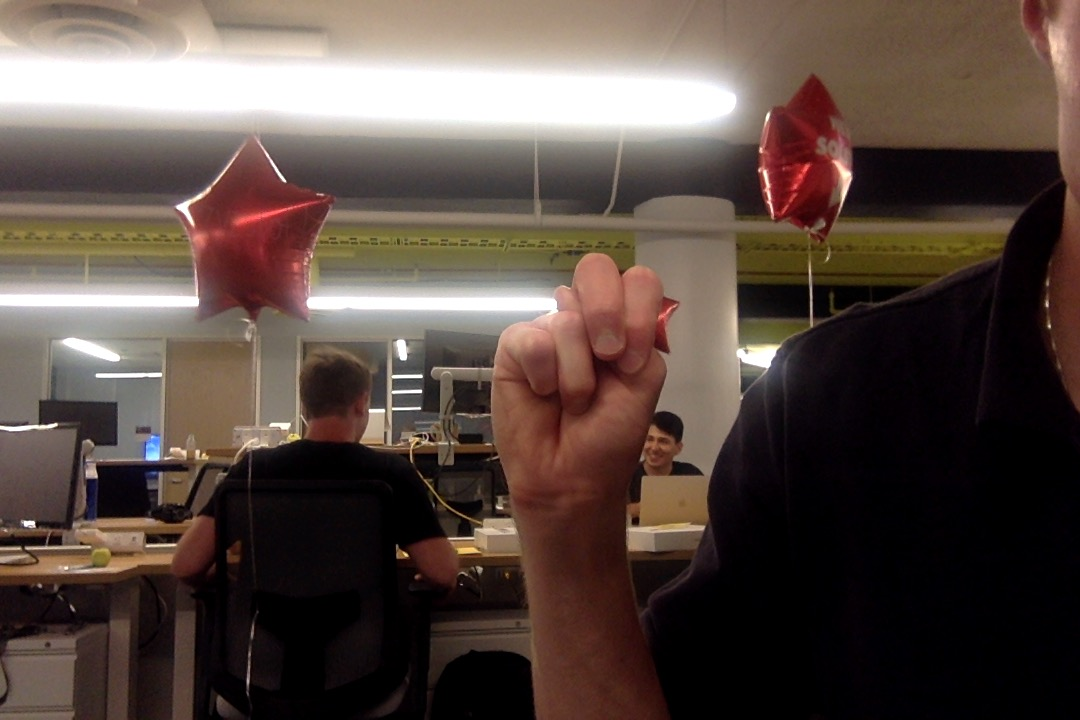n: (485, 246, 674, 521)
